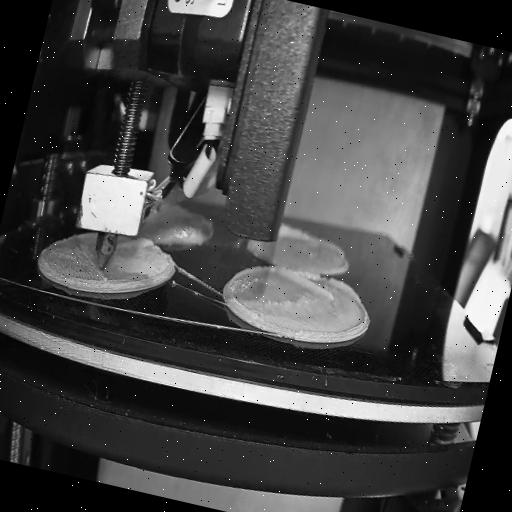over_extrusion: (275, 264, 364, 312), (220, 254, 278, 324), (117, 234, 154, 256), (278, 220, 308, 241)
